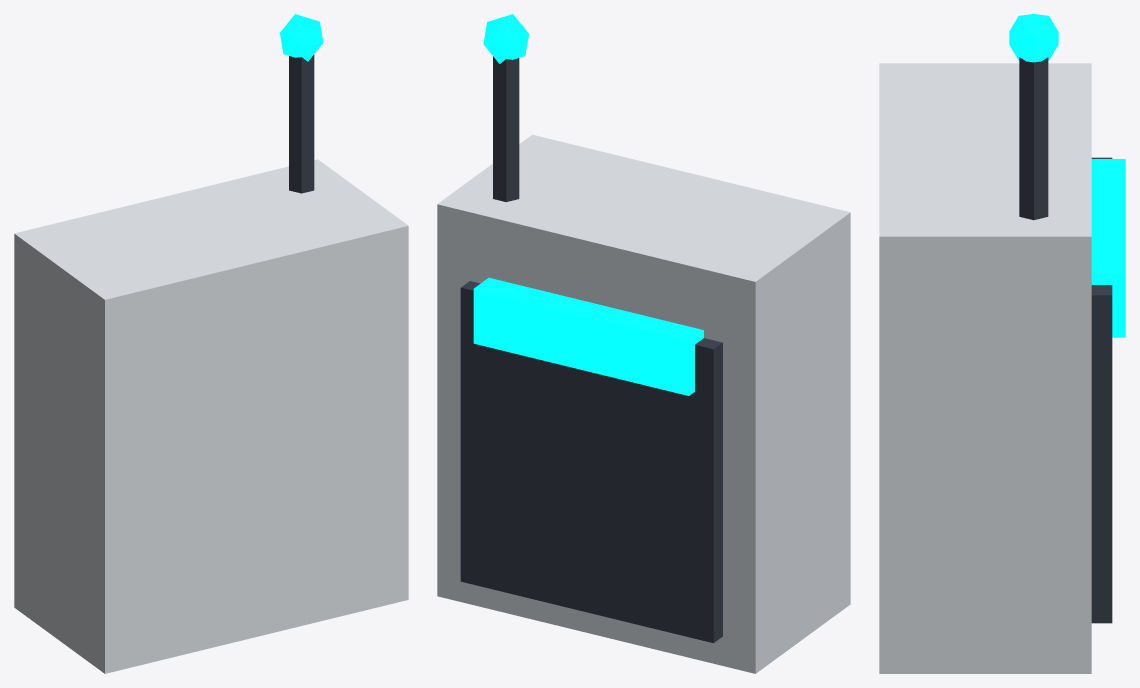
The model's file is Backpack.fbx.
The picture shows the model from 3 angles, left to right: view 1: azimuth 30°, elevation 25°; view 2: azimuth 150°, elevation 25°; view 3: azimuth 270°, elevation 25°; orthographic projection. The views are drawn at different scales.
Parts seen in each view (by area): view 1: SM_Backpack_MAT_HullWhite, SM_Backpack_MAT_HullDark, SM_Backpack_MAT_GlowCyan; view 2: SM_Backpack_MAT_HullWhite, SM_Backpack_MAT_HullDark, SM_Backpack_MAT_GlowCyan; view 3: SM_Backpack_MAT_HullWhite, SM_Backpack_MAT_HullDark, SM_Backpack_MAT_GlowCyan.
Boxes of the visible parts, x1,y1,x2,y2 form: SM_Backpack_MAT_HullWhite: (14, 159, 408, 673); SM_Backpack_MAT_HullDark: (289, 54, 314, 193); SM_Backpack_MAT_GlowCyan: (280, 14, 323, 61); SM_Backpack_MAT_HullWhite: (437, 134, 850, 673); SM_Backpack_MAT_HullDark: (460, 56, 722, 643); SM_Backpack_MAT_GlowCyan: (473, 14, 703, 395); SM_Backpack_MAT_HullWhite: (879, 63, 1091, 673); SM_Backpack_MAT_HullDark: (1019, 57, 1112, 623); SM_Backpack_MAT_GlowCyan: (1009, 14, 1125, 337).
Bounding box in the file's own units: 0.476 × 0.8126 × 0.2856.
